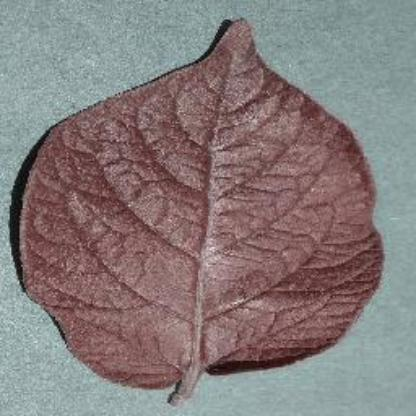Healthy-plant: (17, 16, 386, 406)
